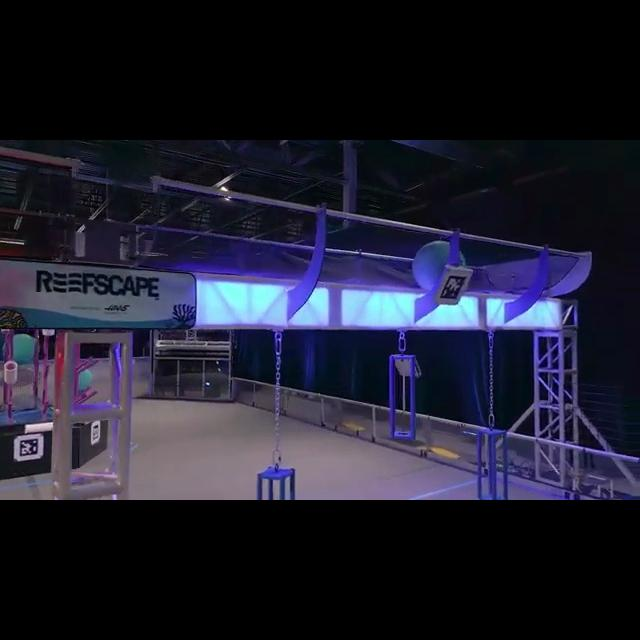ALGAE: (412, 240, 466, 294), (76, 369, 92, 391)
